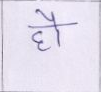ai_matra: (36, 9, 60, 25)
